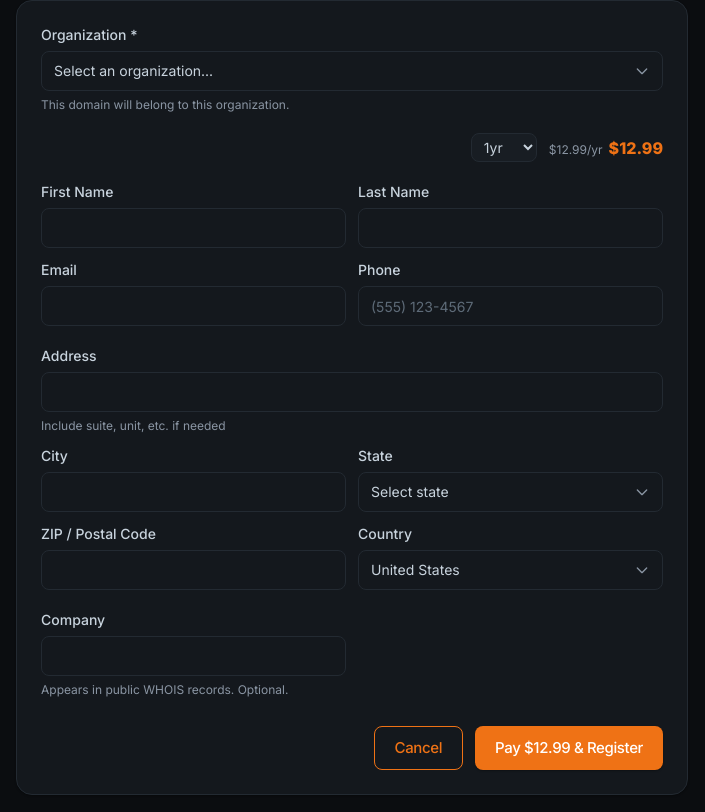
Test: DomainCheckoutForm org-aware pricing › multiplies the discounted price by the selected years
Click the button "Select an organization..." at (134, 70), box [41, 51, 663, 91]
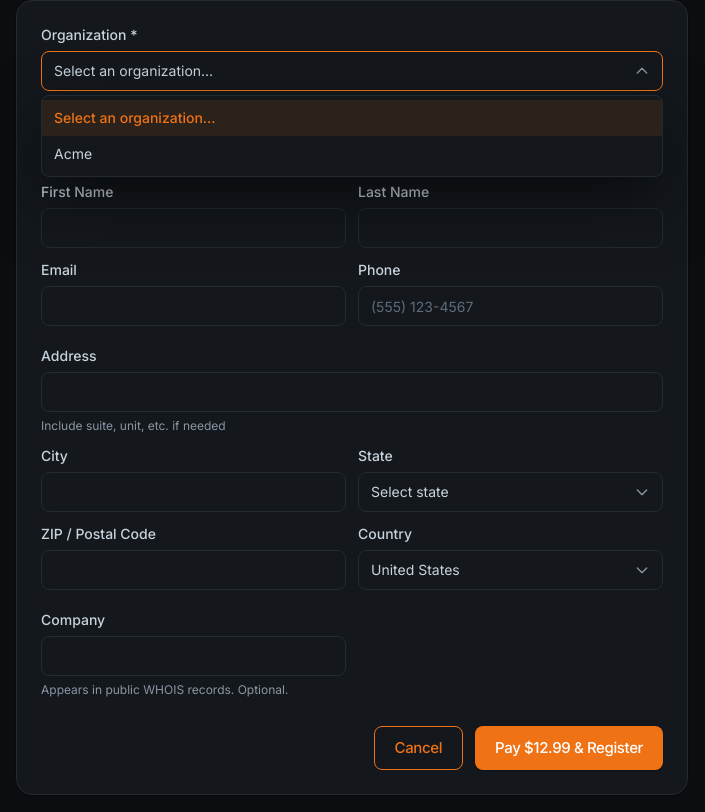
Click the option "Acme" at (73, 154), box [42, 136, 662, 172]
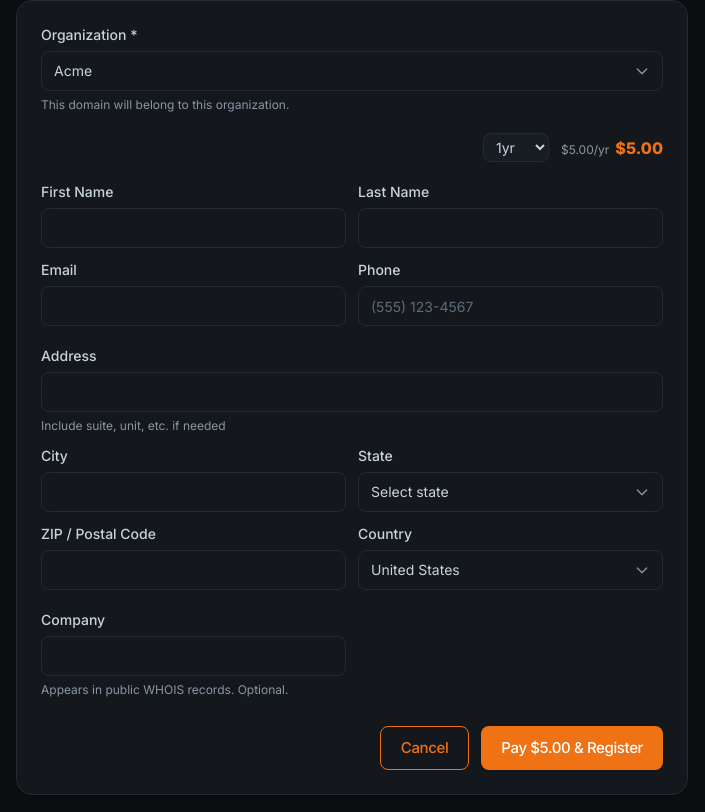
Expected: the text "$5.00" is shown, [615, 136, 663, 160]
